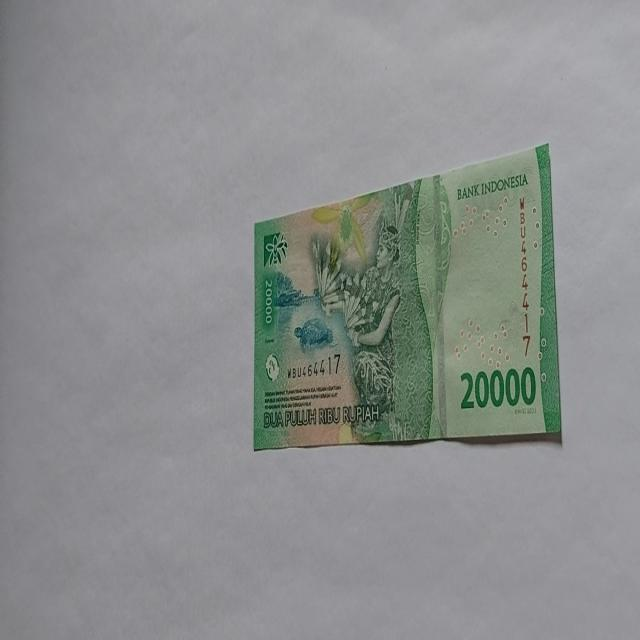dua puluh ribu rupiah: (252, 141, 562, 451)
